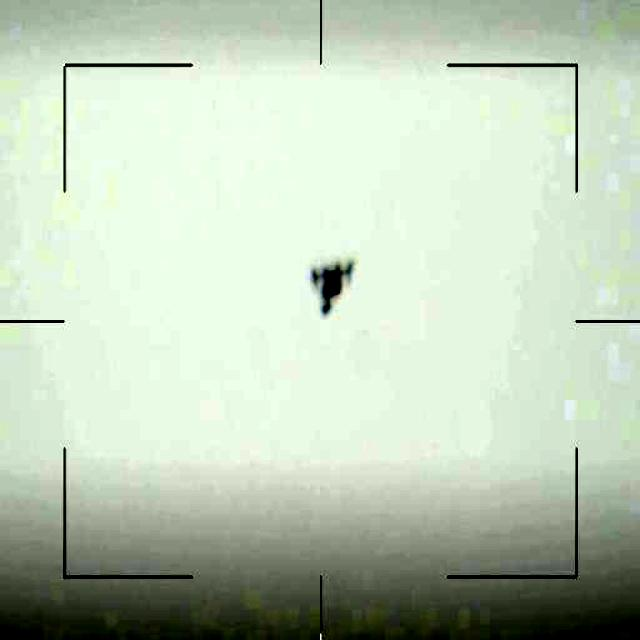bird: (309, 260, 368, 326)
